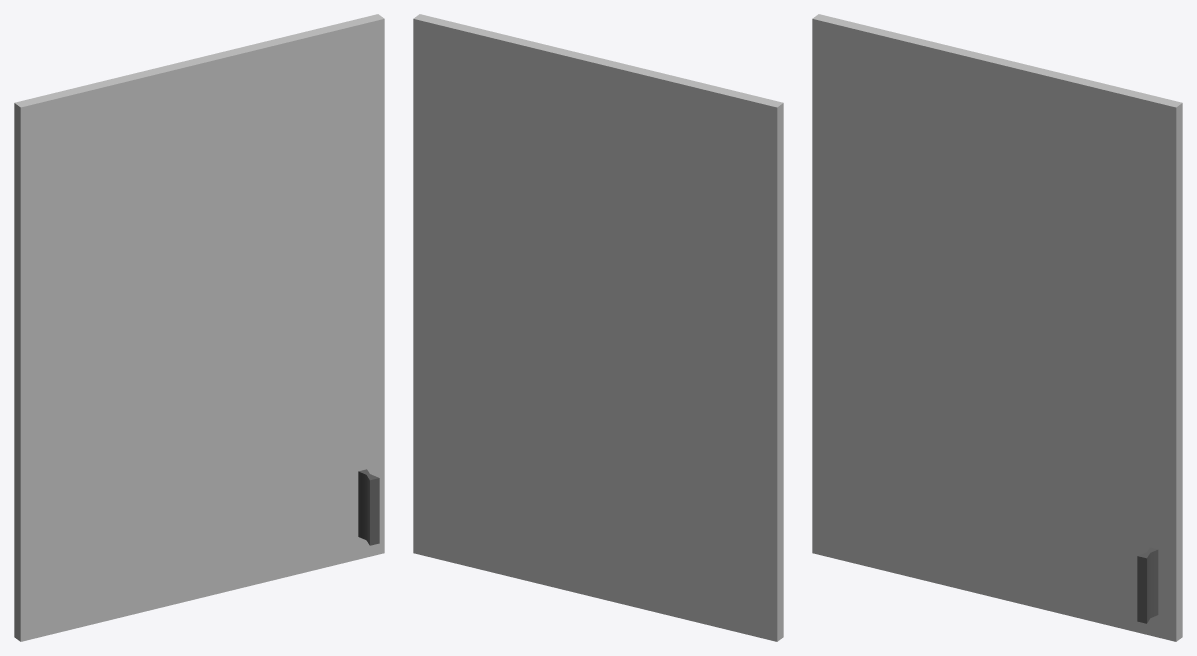
The model's file is MuebleCocina_Puerta_izq.fbx.
3 views of the same model, side by side, from view 1: azimuth 30°, elevation 25°; view 2: azimuth 150°, elevation 25°; view 3: azimuth 330°, elevation 25° (orthographic).
Visible parts, largest first — view 1: MuebleCocina_Puerta_izq; view 2: MuebleCocina_Puerta_izq; view 3: MuebleCocina_Puerta_izq.
Part boxes in pixels (box(x1,y1,x2,y2)): MuebleCocina_Puerta_izq: box(14, 14, 384, 641); MuebleCocina_Puerta_izq: box(413, 14, 783, 641); MuebleCocina_Puerta_izq: box(812, 14, 1182, 641).
Bounding box in the file's own units: 87.37 × 123 × 7.74.
